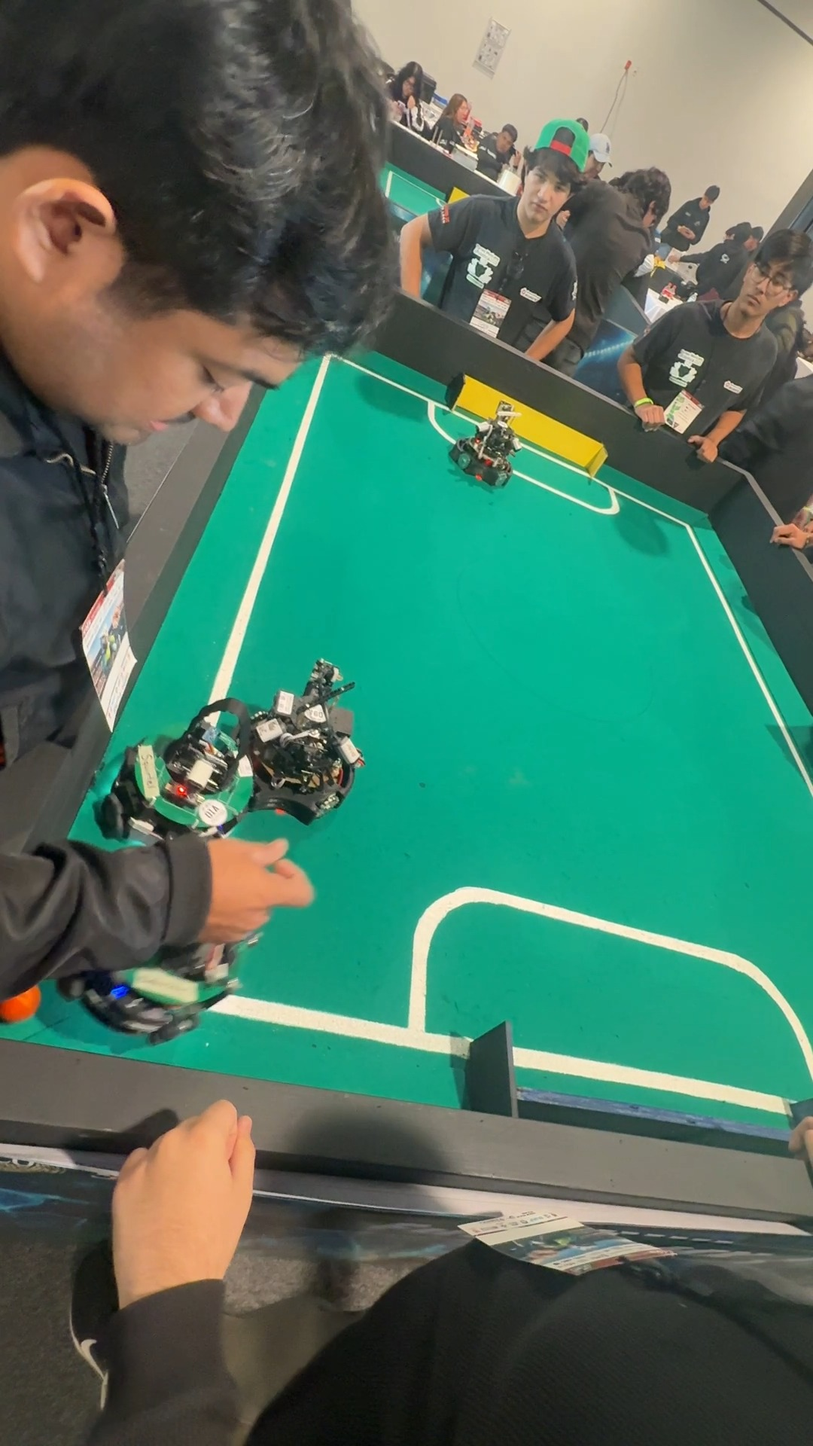Robot: (247, 653, 364, 836), (123, 708, 246, 868), (454, 396, 520, 498)
pelota: (3, 961, 41, 1032)
